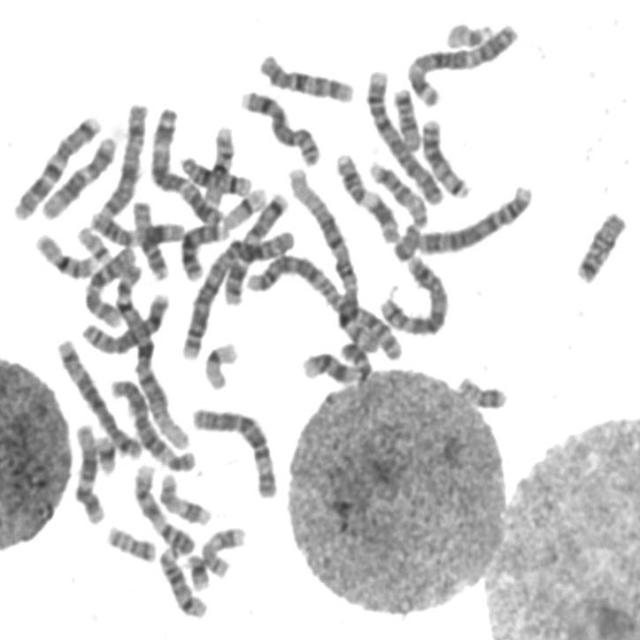A1: (283, 157, 382, 360), (109, 254, 192, 464)
A2: (242, 248, 406, 361), (175, 219, 298, 362)
A3: (401, 15, 522, 108), (144, 99, 226, 226)
B4: (361, 62, 447, 206), (412, 177, 536, 257)
B5: (52, 330, 144, 460), (373, 248, 452, 336)
C10: (253, 46, 357, 105), (78, 238, 139, 329)
C11: (330, 145, 403, 245), (86, 205, 187, 247)
C12: (36, 128, 120, 221), (68, 416, 107, 526)
C6: (187, 399, 280, 501), (105, 371, 196, 473)
C7: (7, 107, 105, 222), (217, 185, 292, 308)
C8: (235, 83, 323, 168), (75, 285, 172, 357)
C9: (128, 457, 198, 557), (296, 336, 376, 386)
D13: (416, 110, 474, 201), (175, 215, 230, 282)
D14: (154, 540, 210, 620), (174, 148, 254, 198)
D15: (363, 153, 430, 230), (126, 194, 172, 281)
E16: (29, 225, 99, 280), (198, 119, 238, 206)
E17: (154, 467, 213, 527), (196, 520, 248, 580)
E18: (570, 204, 629, 285), (389, 80, 423, 152)
F19: (219, 180, 270, 232), (199, 336, 241, 392)
F20: (101, 518, 158, 563), (451, 369, 510, 411)
G21: (180, 546, 212, 592), (90, 428, 119, 476)
G22: (440, 14, 496, 50), (72, 220, 113, 264)
X: (92, 96, 150, 220)
Y: (389, 216, 423, 262)
